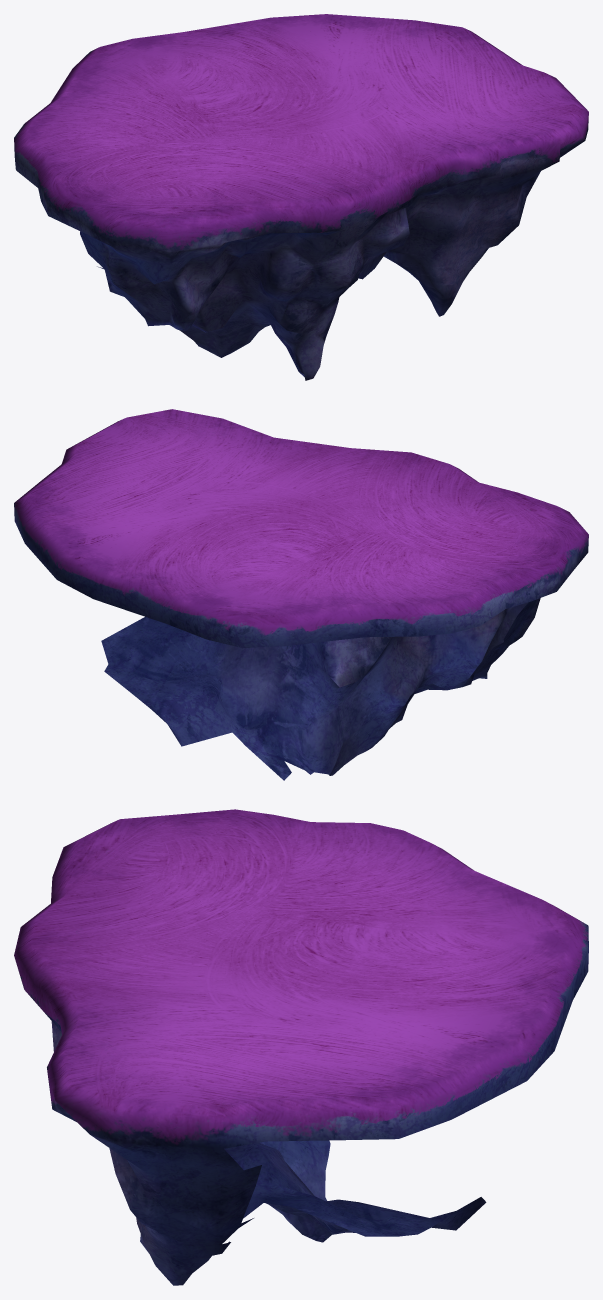
The model's file is StageBass.fbx.
3 renders of one model, top to bottom at view 1: azimuth 30°, elevation 25°; view 2: azimuth 150°, elevation 25°; view 3: azimuth 270°, elevation 25°, orthographic. The views are drawn at different scales.
Visible parts, largest first — view 1: dodai; view 2: dodai; view 3: dodai.
Boxes of the visible parts, bbox=[...] form: dodai: bbox=[14, 14, 588, 380]; dodai: bbox=[14, 409, 588, 780]; dodai: bbox=[14, 809, 588, 1285].
Bounding box in the file's own units: 11.79 × 5.39 × 9.16.
1 material, 1 textured.
